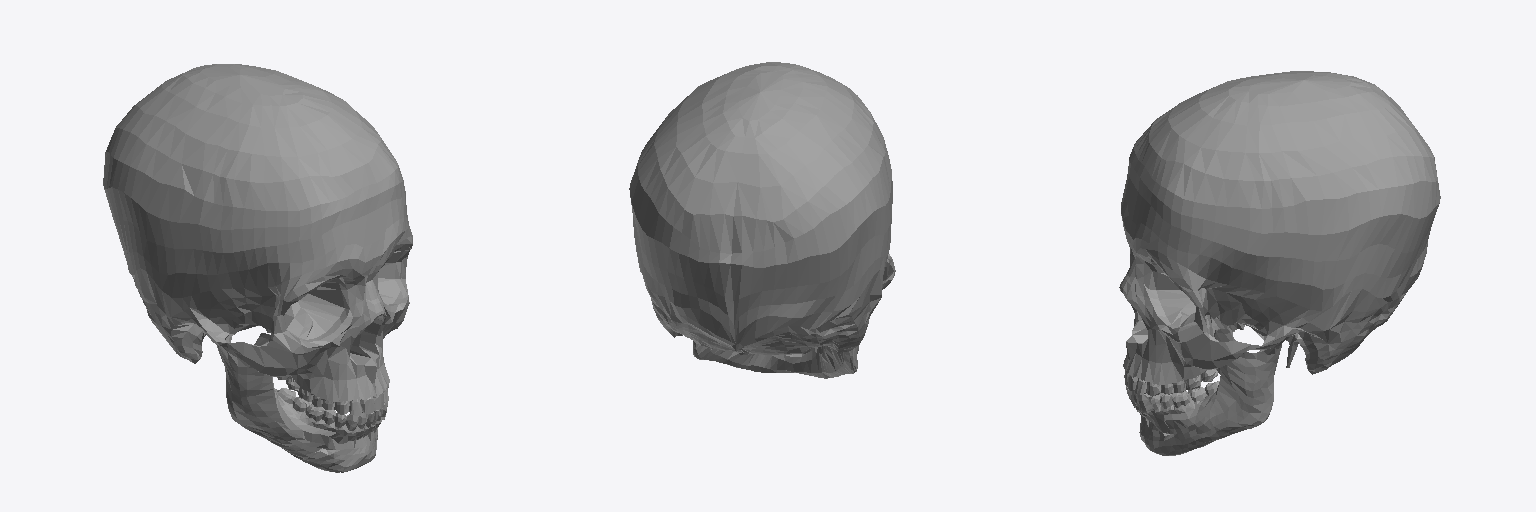
Rendered from skull2.obj.
3 views of the same model, side by side, from view 1: azimuth 30°, elevation 25°; view 2: azimuth 150°, elevation 25°; view 3: azimuth 270°, elevation 25° (orthographic).
Visible parts, largest first — view 1: skull, jaw, lteeth, uteeth; view 2: skull, jaw; view 3: skull, jaw, lteeth, uteeth.
Boxes of the visible parts, box(x1,y1,x2,y2) form: skull: box(103, 64, 412, 404); jaw: box(218, 333, 385, 472); lteeth: box(277, 388, 387, 430); uteeth: box(277, 376, 388, 415); skull: box(629, 62, 895, 354); jaw: box(693, 341, 859, 378); skull: box(1119, 71, 1440, 384); jaw: box(1129, 329, 1281, 455); lteeth: box(1126, 381, 1219, 410); uteeth: box(1124, 368, 1219, 396).
Bounding box in the file's own units: 5.23 × 7.32 × 6.14.